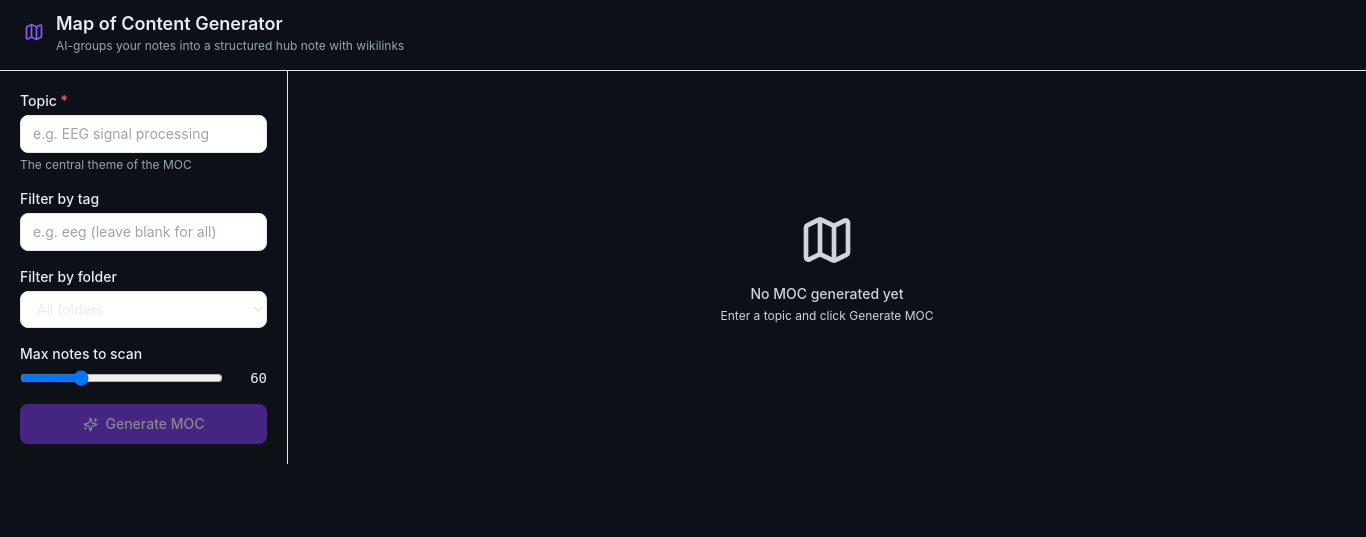
MocPage — loading + error states › shows error state when mutation rejects
Type "Buddhism" into the field with placeholder "e.g. EEG signal processing".
click(144, 134); type("Buddhism")  # box [20, 115, 267, 153]
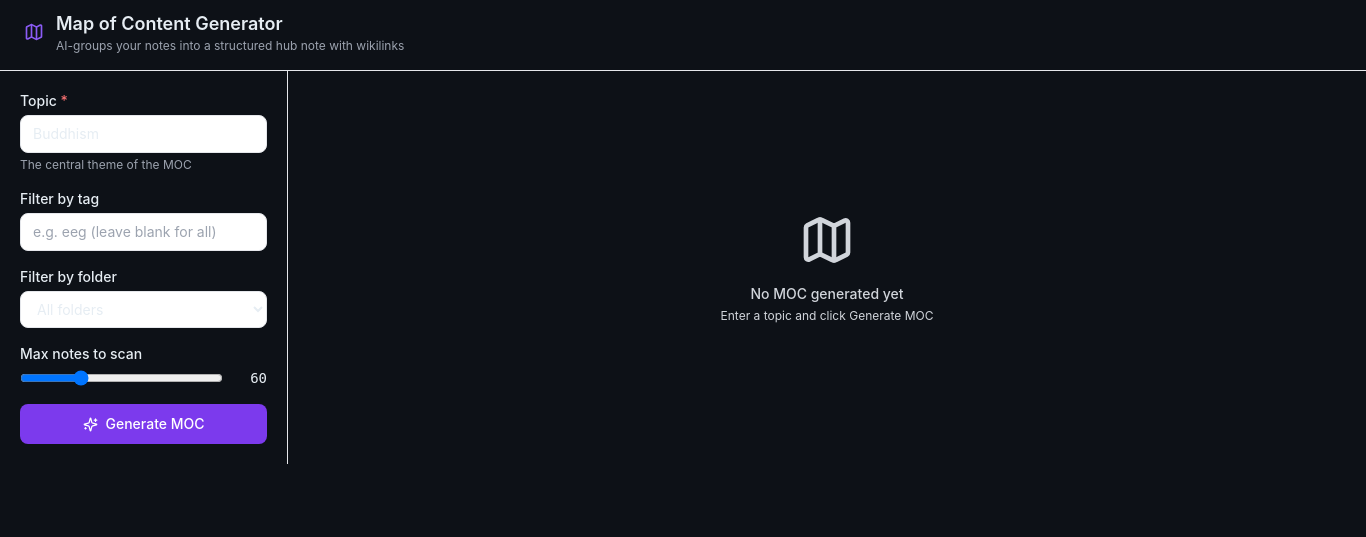
Click the button "Generate MOC".
click(144, 424)  # box [20, 404, 267, 444]
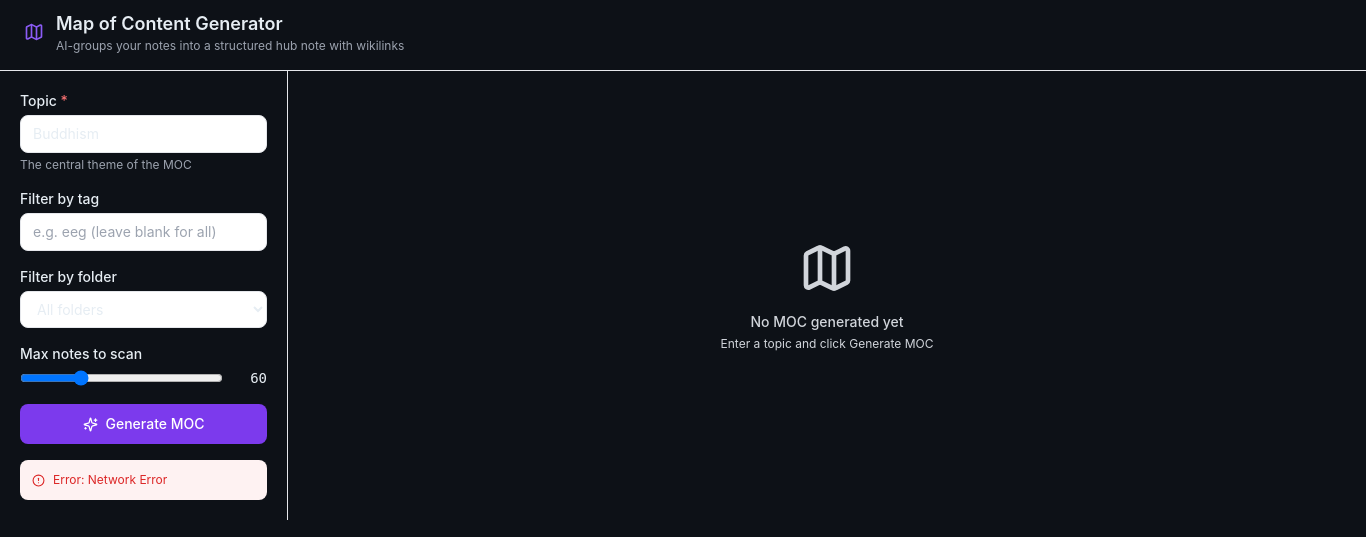
Result: the text "Error: Network Error" is shown at [53, 472, 167, 488]
